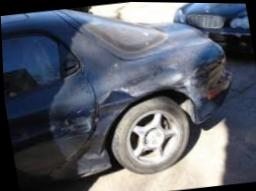Fender: (50, 60, 209, 181)
Light: (203, 55, 231, 98)
